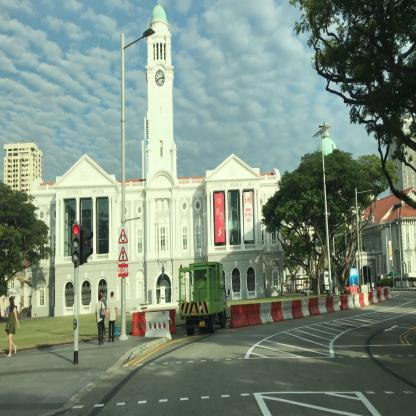red_traffic_light: (72, 224, 79, 261)
